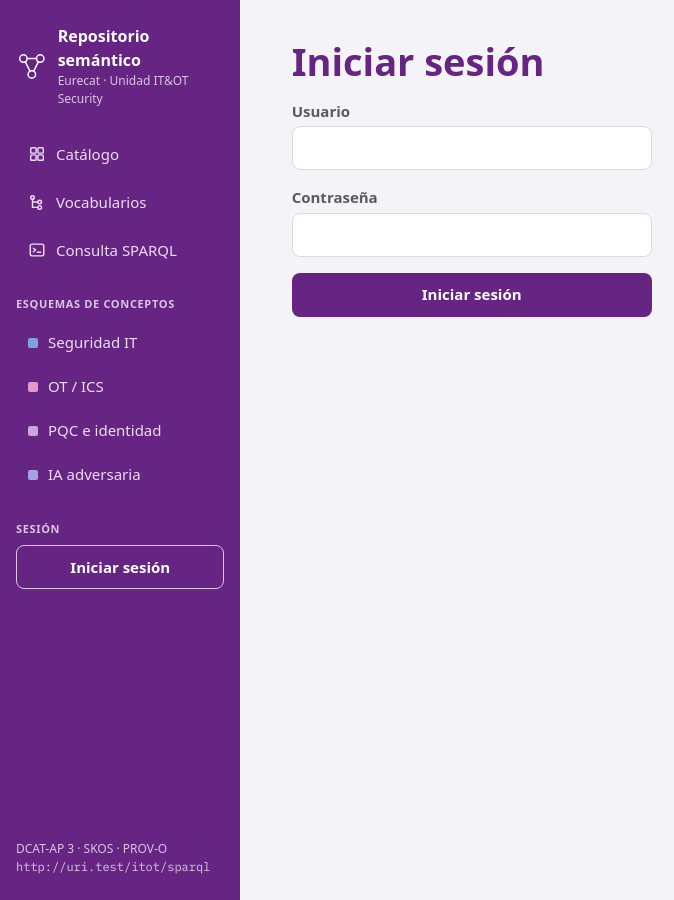
Scenario: Login › muestra un error genérico si la API no responde
The image size is (674, 900).
Type "usuario-prueba" into the field labelled "Usuario" at x=472, y=148, box x1=292 y1=126 x2=652 y2=170
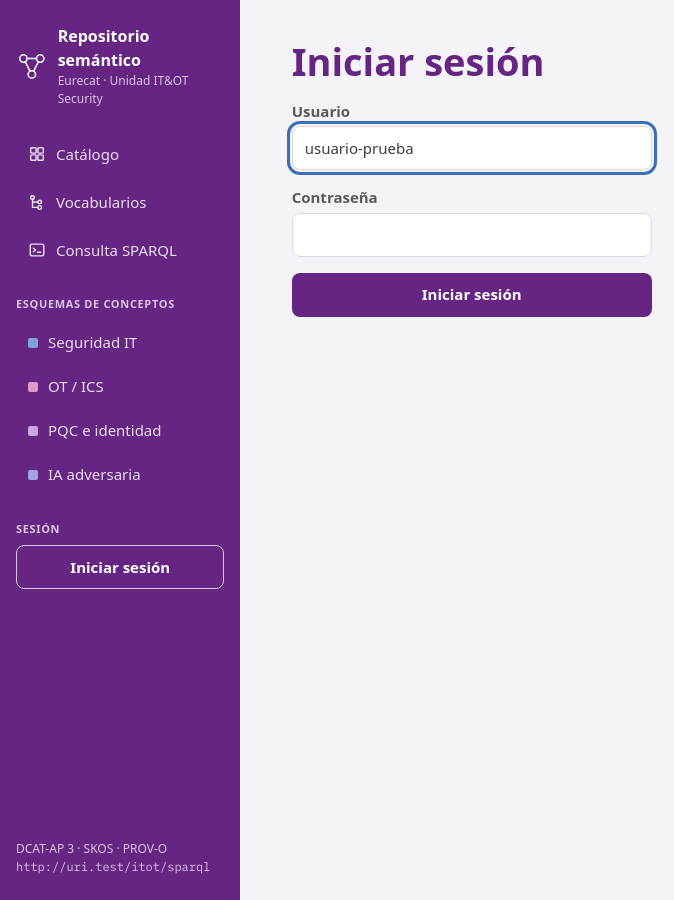
Type "clave-prueba" into the password field labelled "Contraseña" at x=472, y=235, box x1=292 y1=213 x2=652 y2=257
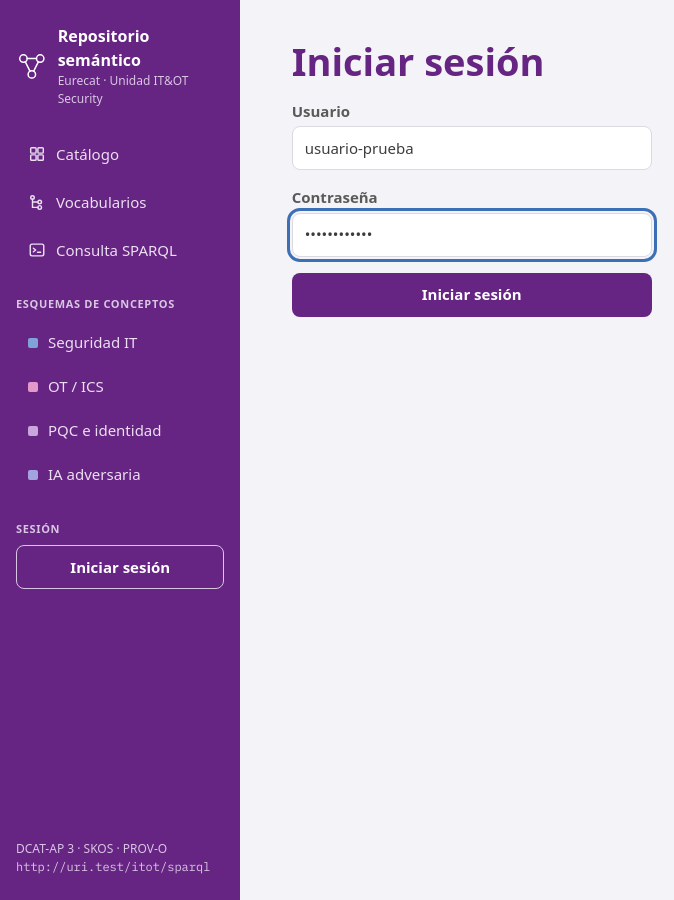
Click the button "Iniciar sesión" at x=472, y=295, box x1=292 y1=273 x2=652 y2=317
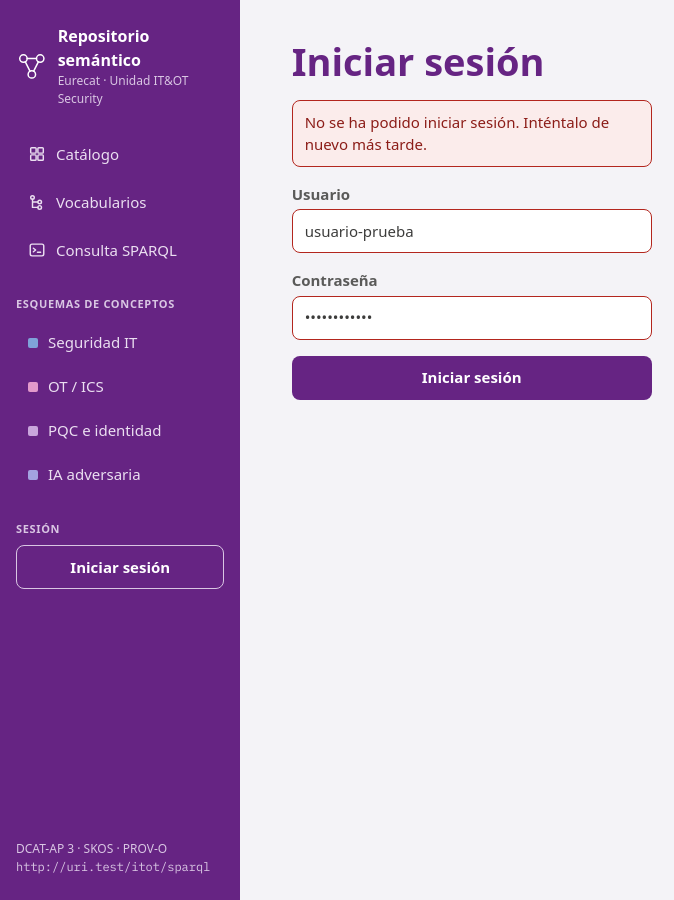
Check: the message shows "No se ha podido iniciar sesión", box x1=305 y1=112 x2=609 y2=154
